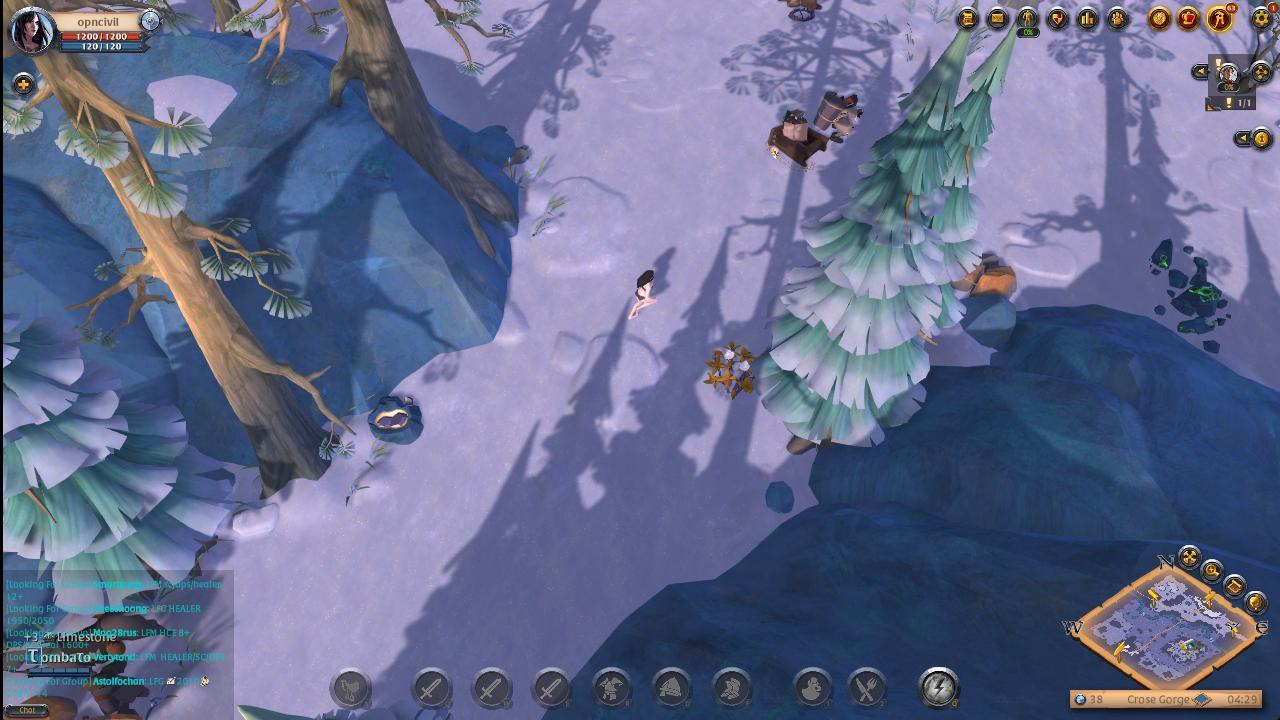cotton: (702, 336, 761, 404)
limestone: (951, 250, 1022, 304)
